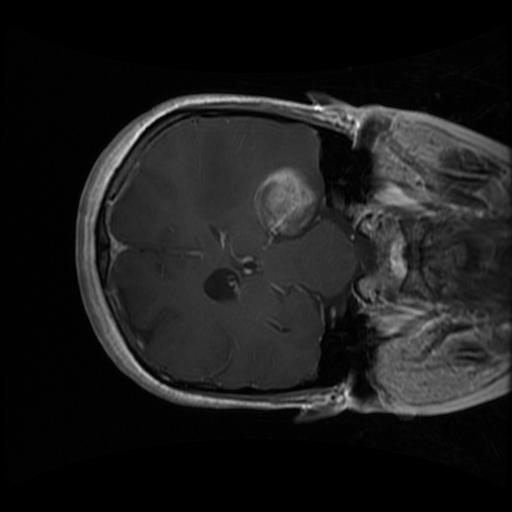glioma: (250, 162, 326, 250)
